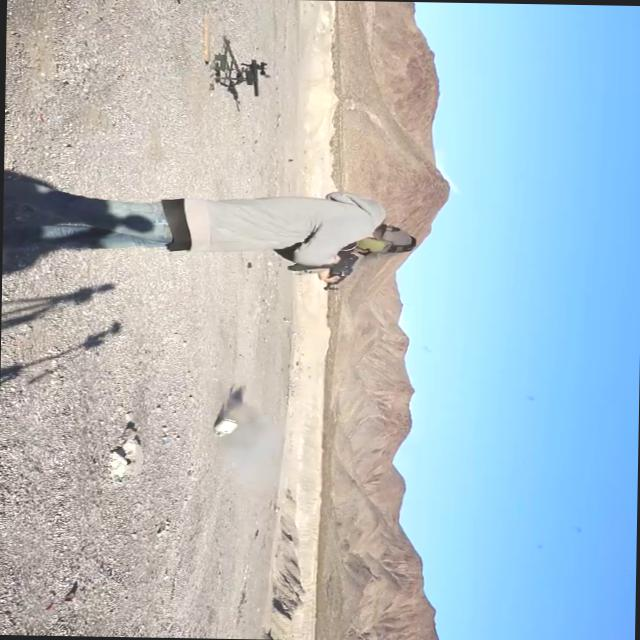long weapon: (210, 46, 282, 109), (290, 237, 358, 298)
